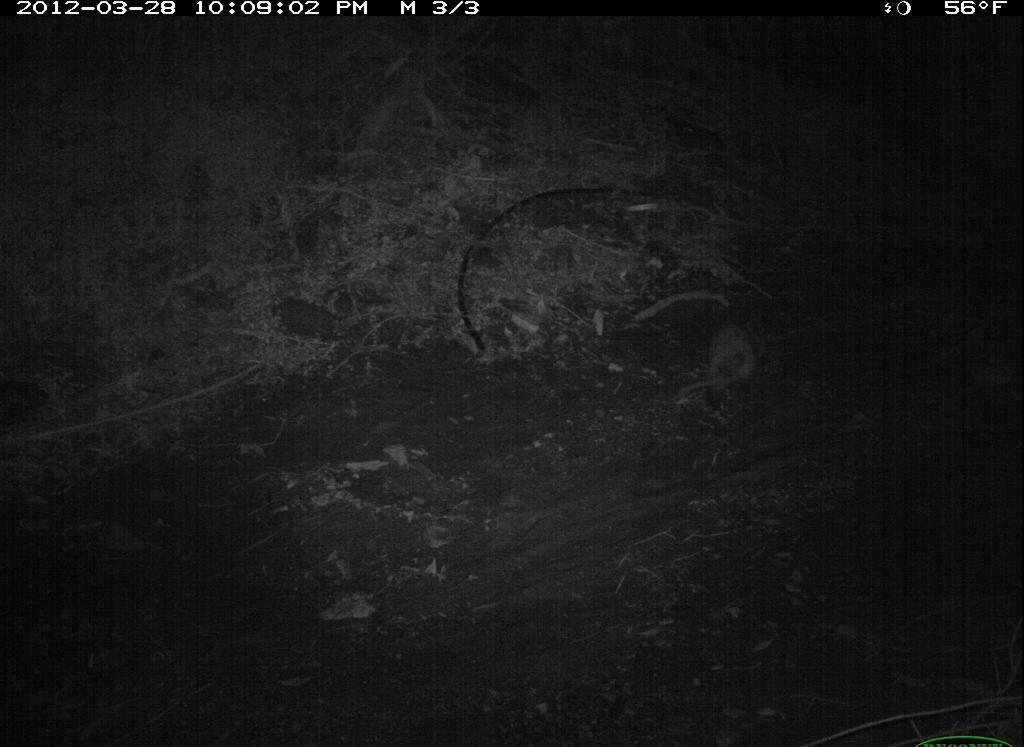opossum: (658, 301, 784, 442)
